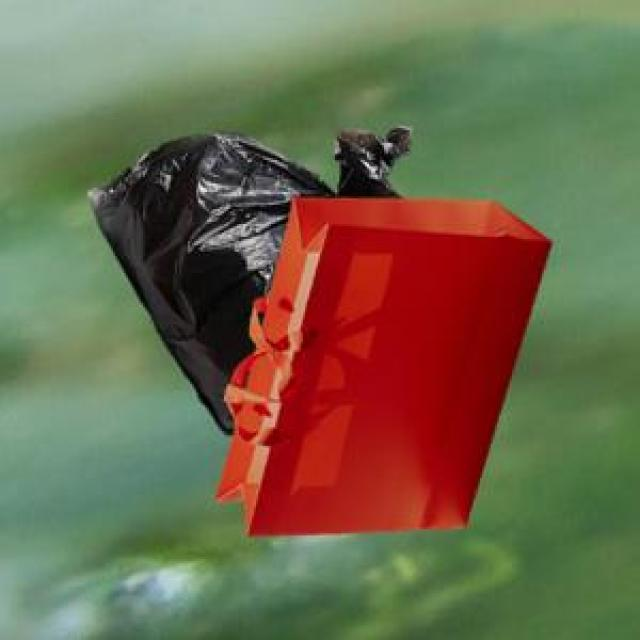miscellaneous trash: (85, 122, 406, 431)
paper: (211, 194, 546, 531)
